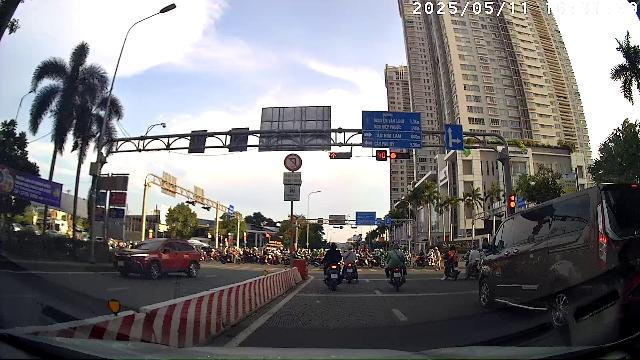103c-cam-oto-re-trai: (284, 153, 302, 171)
